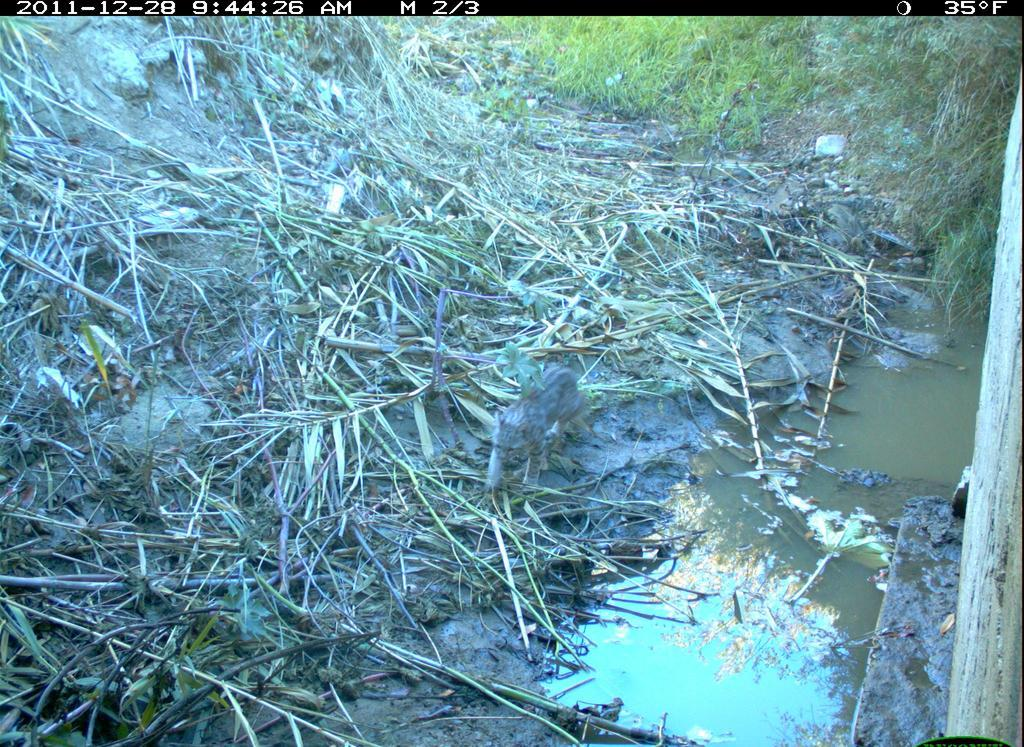bobcat: (479, 360, 591, 498)
